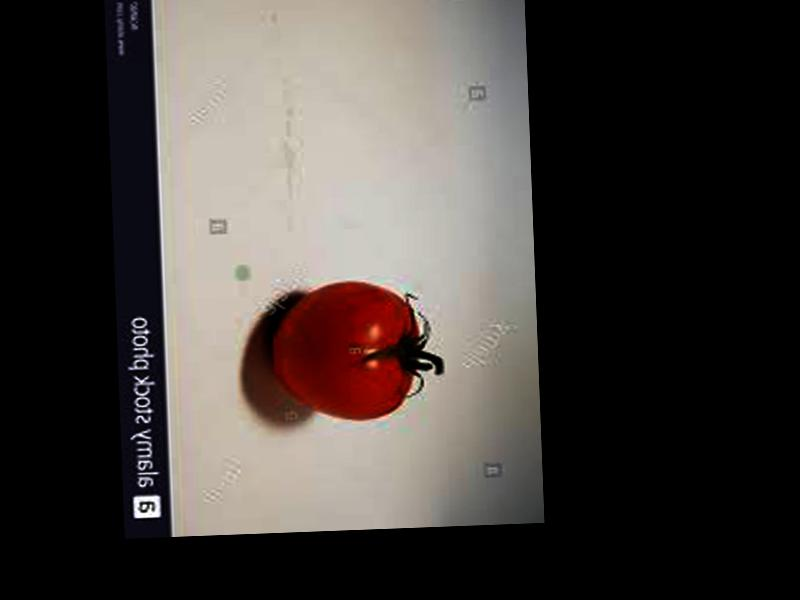Tomato: (268, 279, 419, 421)
